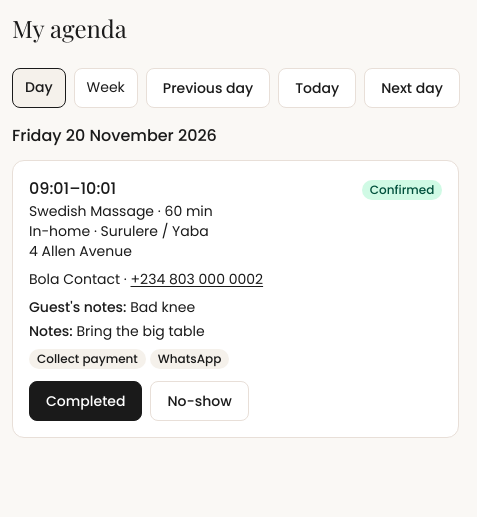
therapist agenda › a refusal from the server is shown on the card
The image size is (477, 517).
Step 1. Click the button "No-show" → (200, 401), box [150,381,249,421]
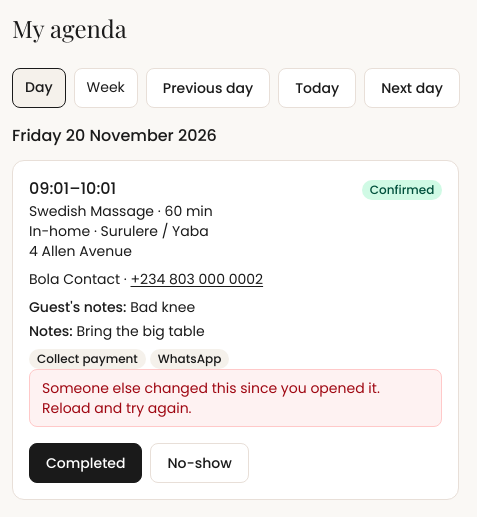
Result: the message reads "Someone else changed this since you opened it. Reload and try again." at [42,378,380,418]
